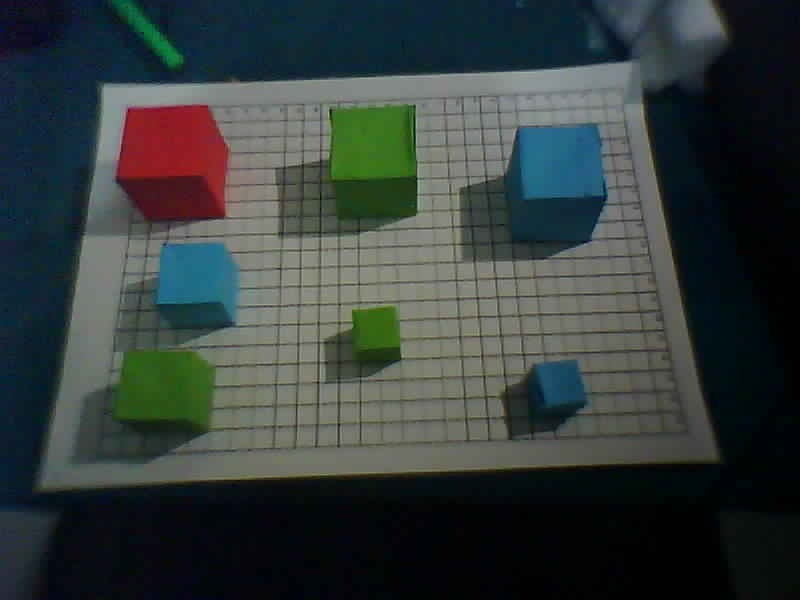LB: (94, 453, 102, 459)
LT: (133, 105, 141, 111)
RB: (682, 428, 690, 434)
RT: (619, 86, 627, 92)
